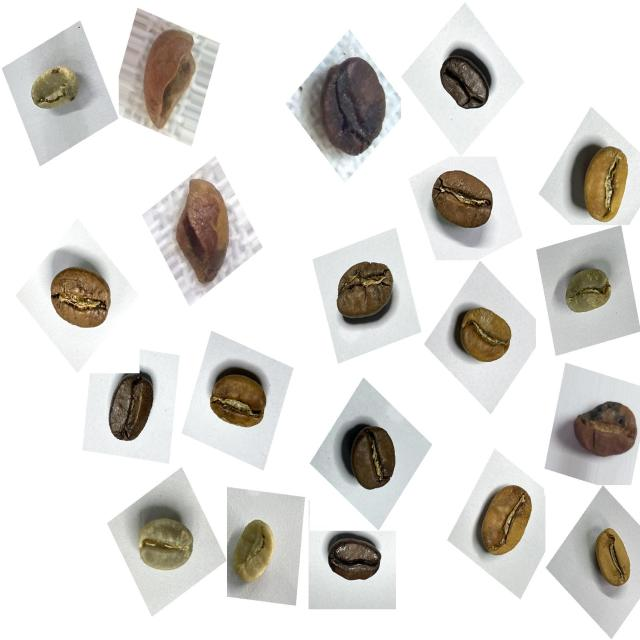bad: (308, 46, 398, 165), (167, 166, 241, 292), (132, 15, 208, 136), (566, 385, 640, 471)
dark: (430, 37, 500, 123), (97, 370, 166, 454), (320, 532, 390, 602)
green: (128, 500, 206, 588), (224, 508, 288, 595), (20, 54, 90, 124), (555, 255, 622, 328)
light: (561, 135, 637, 233), (466, 473, 542, 570), (200, 354, 277, 443), (582, 522, 638, 601)
medium: (40, 254, 122, 344), (423, 158, 504, 244), (324, 248, 403, 336), (335, 418, 407, 503), (448, 298, 522, 378)
